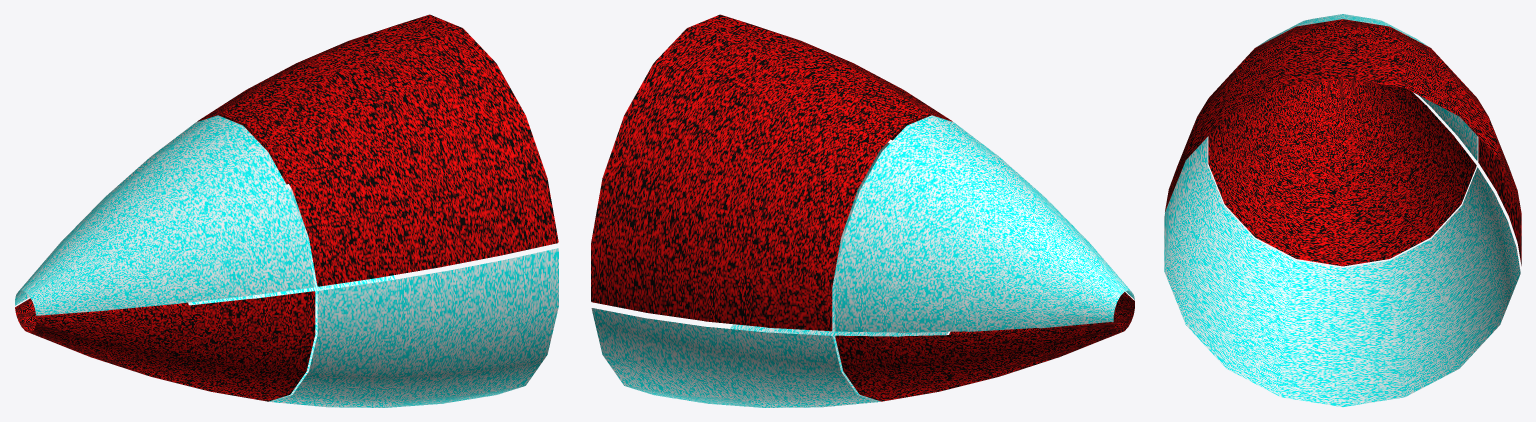
The model's file is SM_Cone_01_LGS.fbx.
The picture shows the model from 3 angles, left to right: view 1: azimuth 30°, elevation 25°; view 2: azimuth 150°, elevation 25°; view 3: azimuth 270°, elevation 25°; orthographic projection. The views are drawn at different scales.
Visible parts, largest first — view 1: SM_Cone_01_LGS; view 2: SM_Cone_01_LGS; view 3: SM_Cone_01_LGS.
Boxes of the visible parts, x1,y1,x2,y2 form: SM_Cone_01_LGS: (15, 14, 558, 407); SM_Cone_01_LGS: (591, 14, 1134, 407); SM_Cone_01_LGS: (1164, 14, 1521, 406).
Bounding box in the file's own units: 60 × 46.05 × 45.35.
